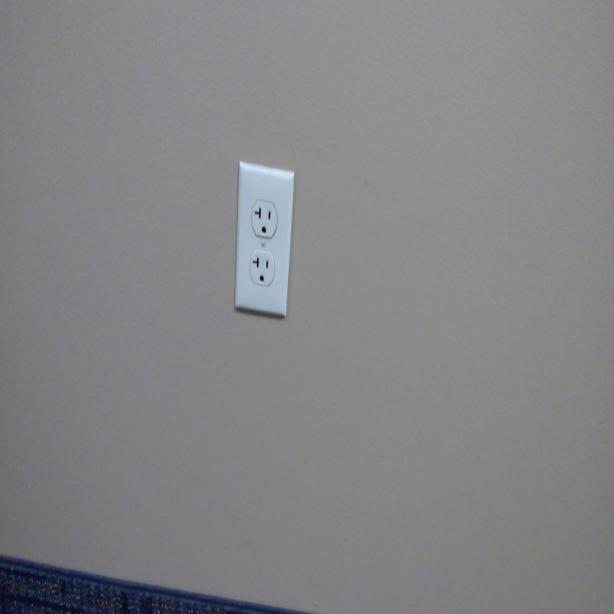typeb: (248, 251, 274, 288), (252, 200, 277, 238)
